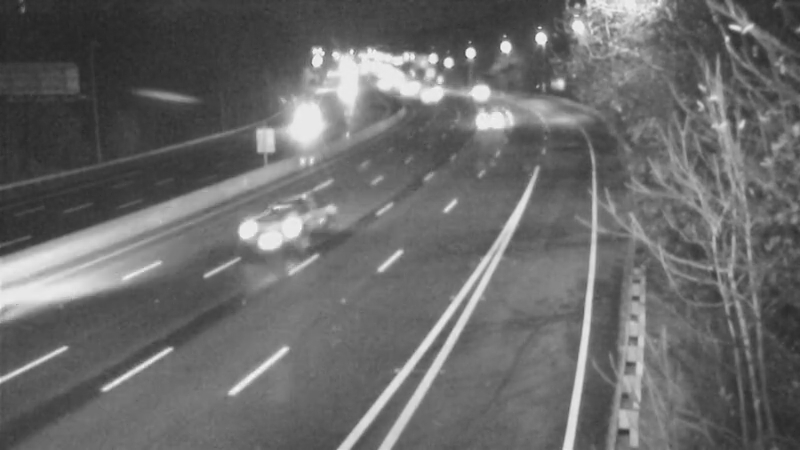vehicle: (227, 193, 307, 273), (458, 66, 508, 116), (402, 69, 452, 119), (464, 87, 514, 137), (280, 98, 330, 148)
